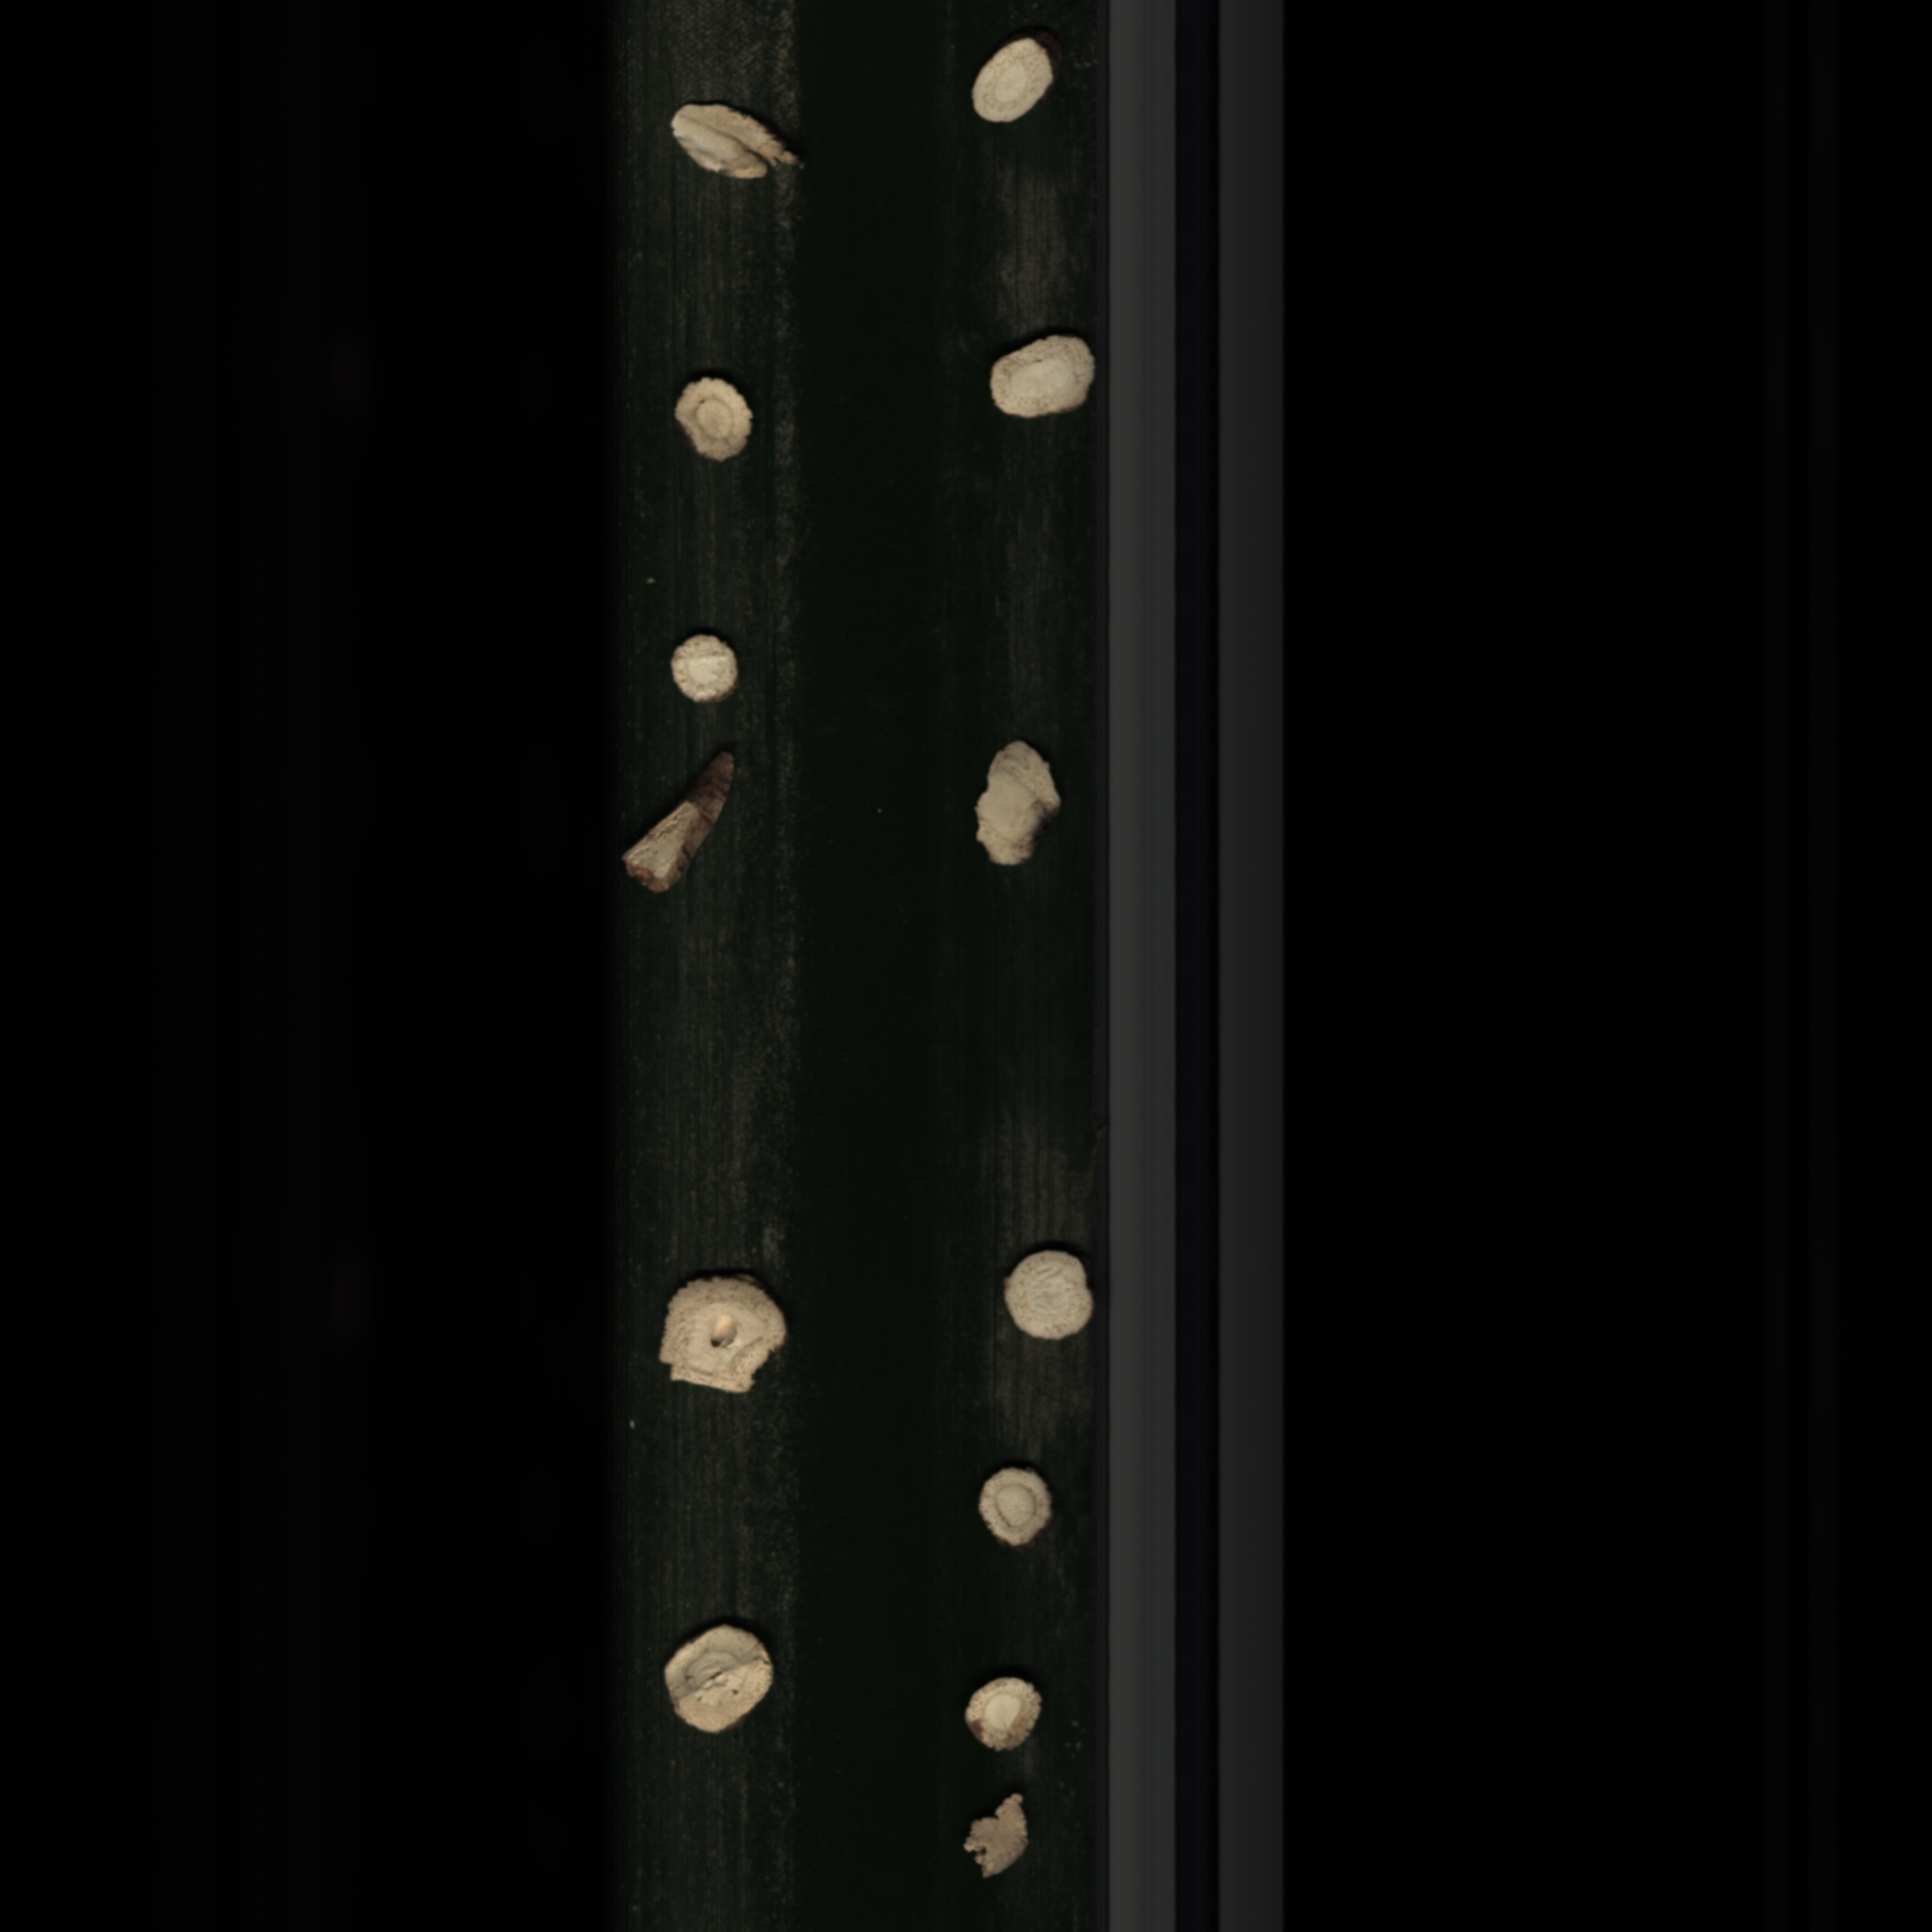bark: (621, 740, 743, 897), (667, 94, 800, 188)
debris: (964, 729, 1070, 890), (952, 1787, 1035, 1884)
hole: (651, 1270, 807, 1412)
